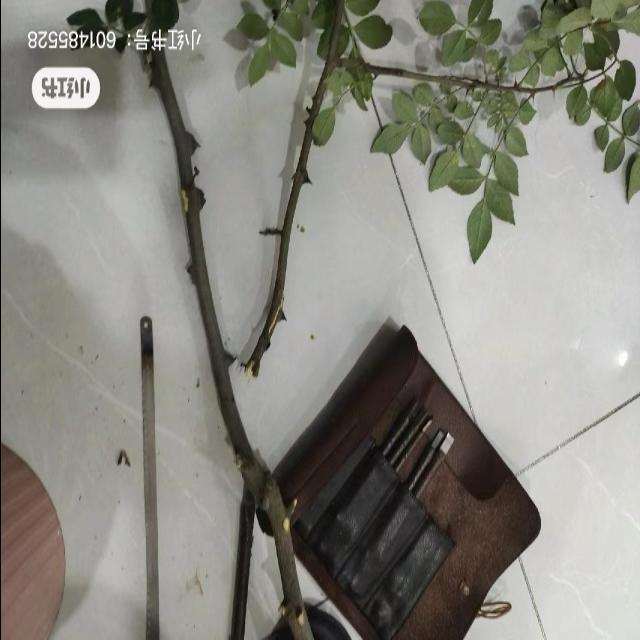branch: (149, 48, 293, 593), (245, 132, 308, 378)
